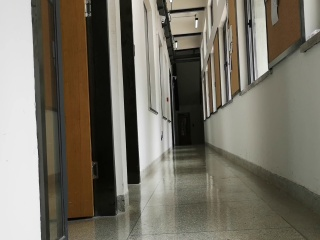room: (28, 1, 120, 227)
